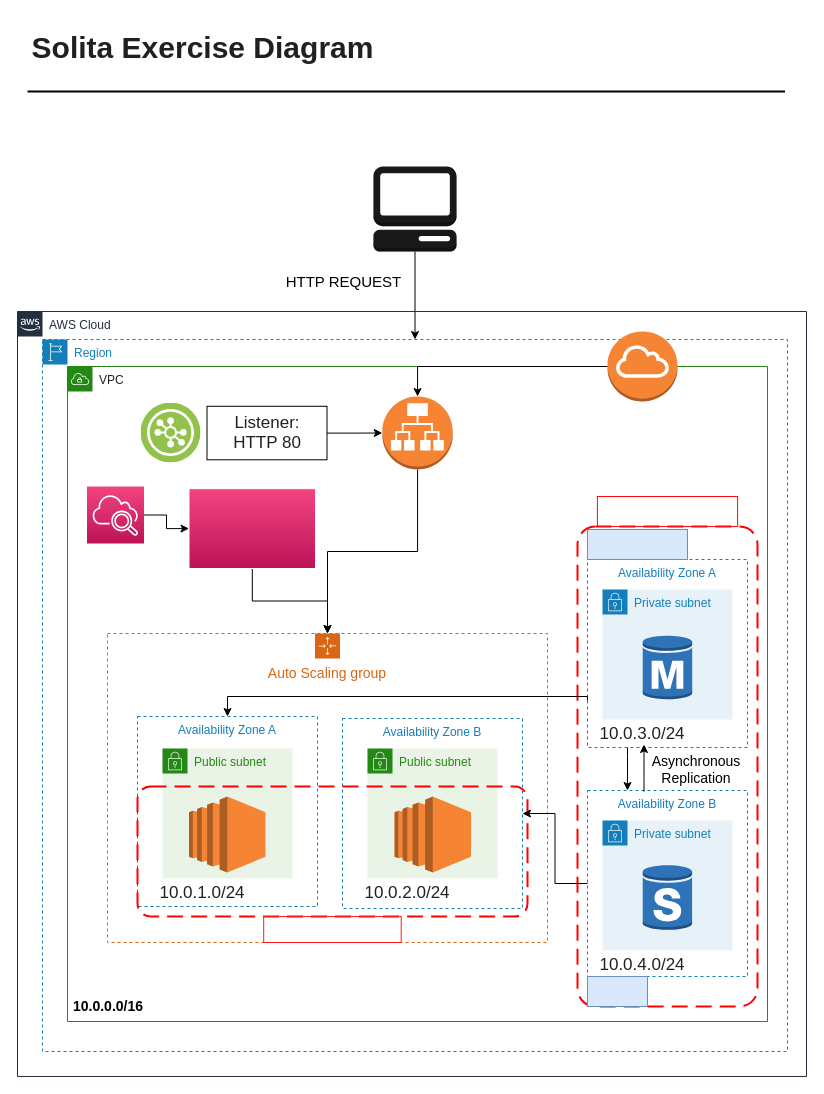
The diagram is 824 pixels wide and 1094 high, and some of its shapes have lost their labels. Each missing label, with the centre of its shape:
Client: point 414,209
CPU ALARM >= 60% (if exceeds, creates more EC2 instances): point 252,528
DB Security group: point 667,511
EC2 Security group: point 332,929
Read: point 617,991
Read / Write: point 637,544
